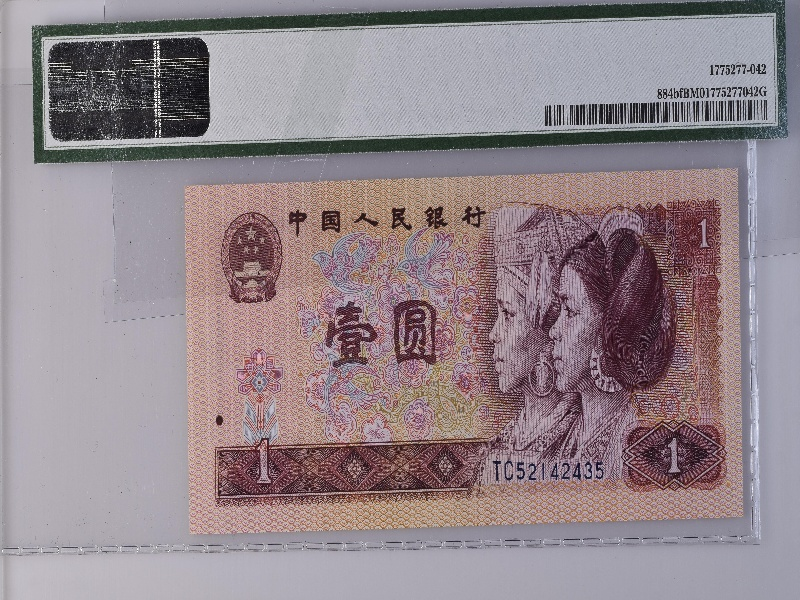papernote: (175, 172, 751, 527)
